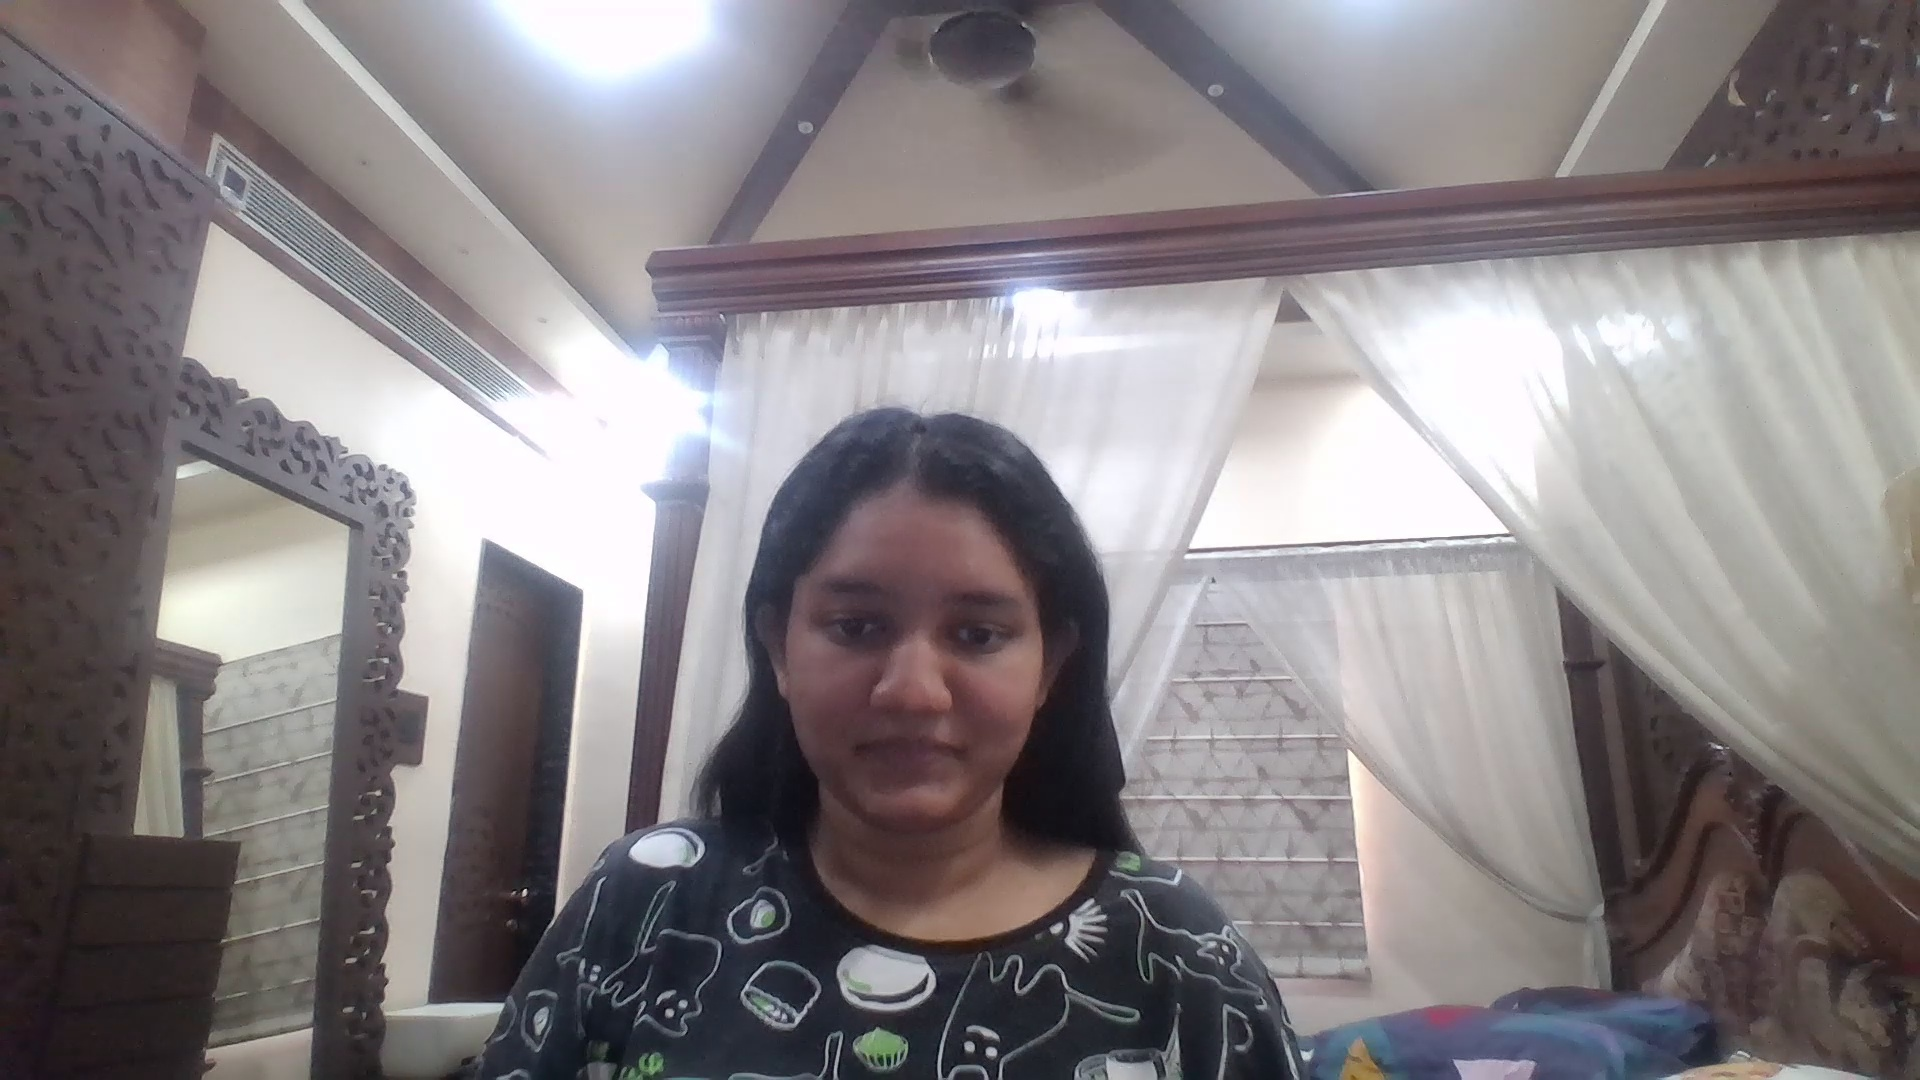No Mask: (796, 663, 1031, 847)
